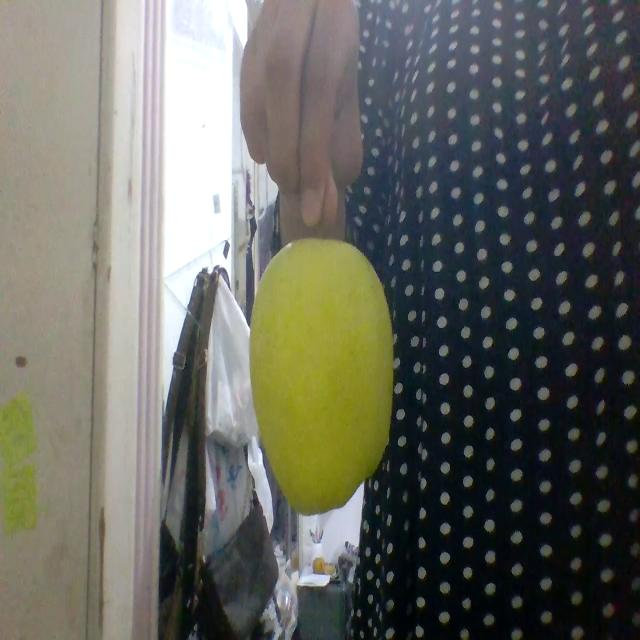50-_ripeness: (249, 236, 393, 514)
